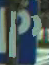Parking: (0, 2, 48, 63)
